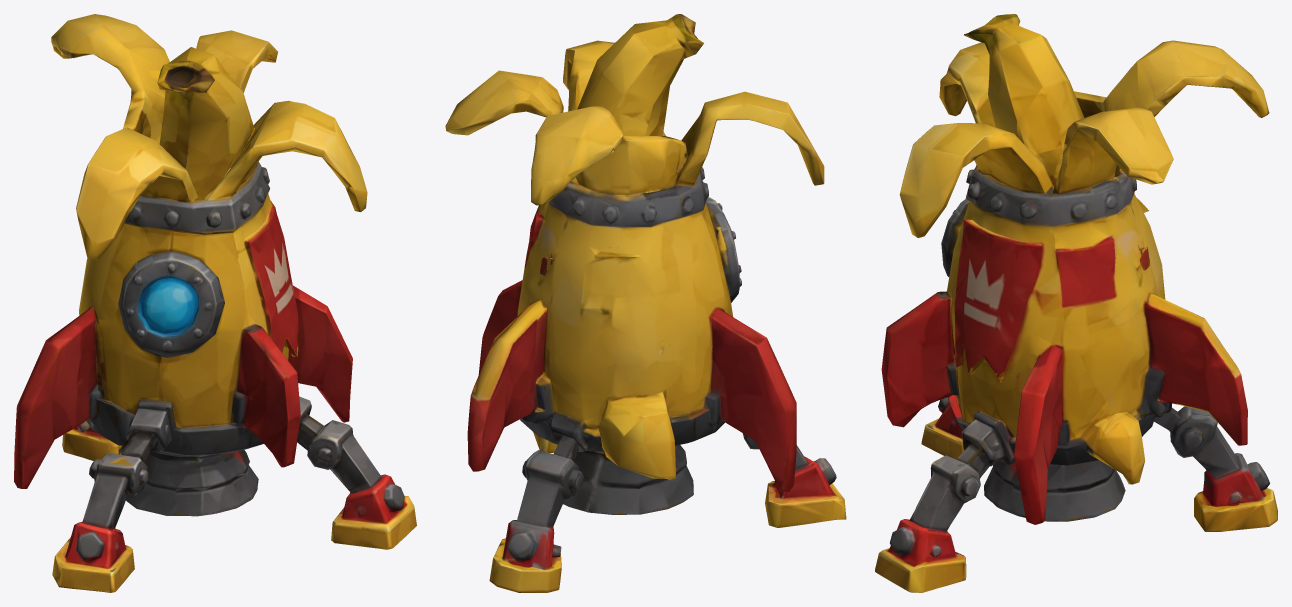
Rendered from bld_rocket.glb.
3 renders of one model, left to right at view 1: azimuth 30°, elevation 25°; view 2: azimuth 150°, elevation 25°; view 3: azimuth 270°, elevation 25°, orthographic.
Visible parts, largest first — view 1: BakeLow; view 2: BakeLow; view 3: BakeLow.
Boxes of the visible parts, <box> form: BakeLow: <box>14,14,416,592</box>; BakeLow: <box>445,14,846,592</box>; BakeLow: <box>875,14,1277,592</box>.
Size of the model in its own units: 0.5937 by 0.8192 by 0.6123.
Materials: 1 (1 with a texture image).
